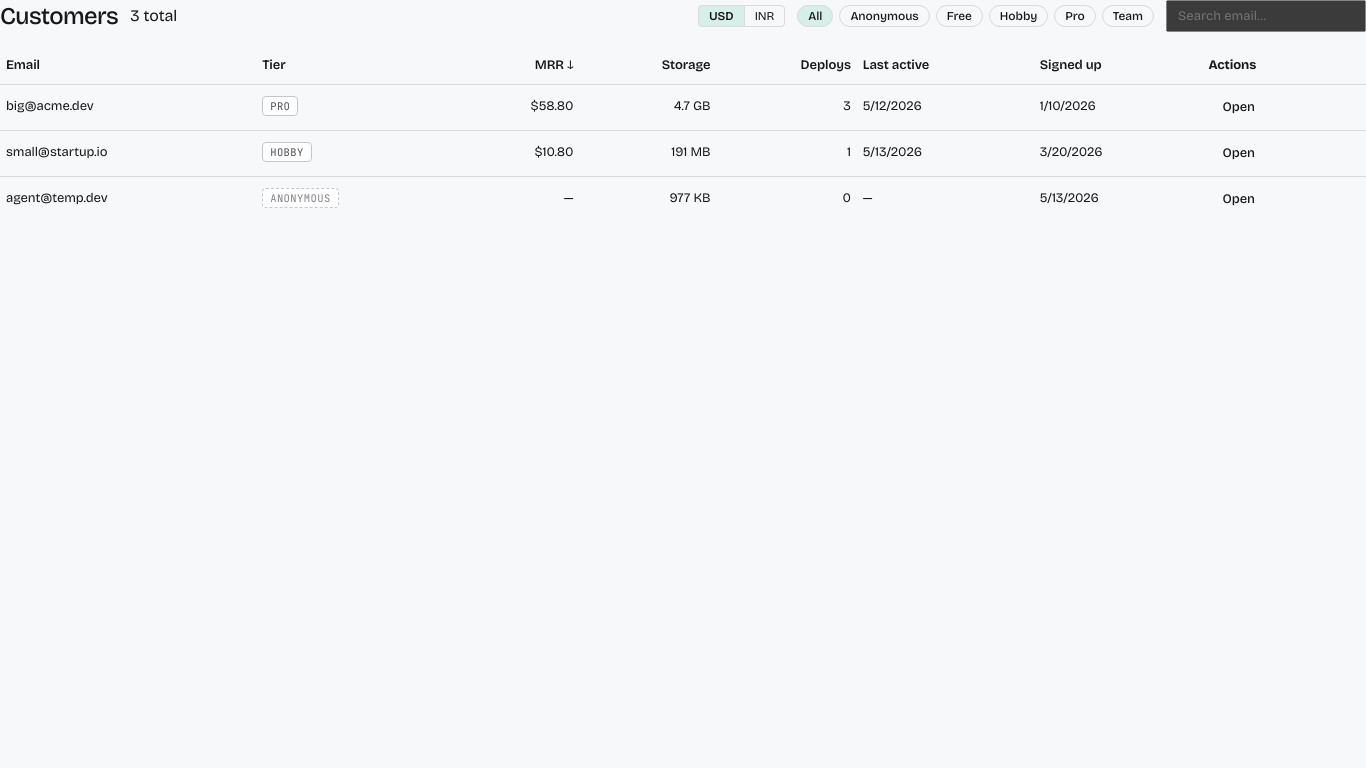
Test: AdminCustomersPage — drawer › drawer tab switches show the right content
Click the row with test id "admin-customer-row-t_big" at (683, 107), box x1=0 y1=84 x2=1365 y2=130
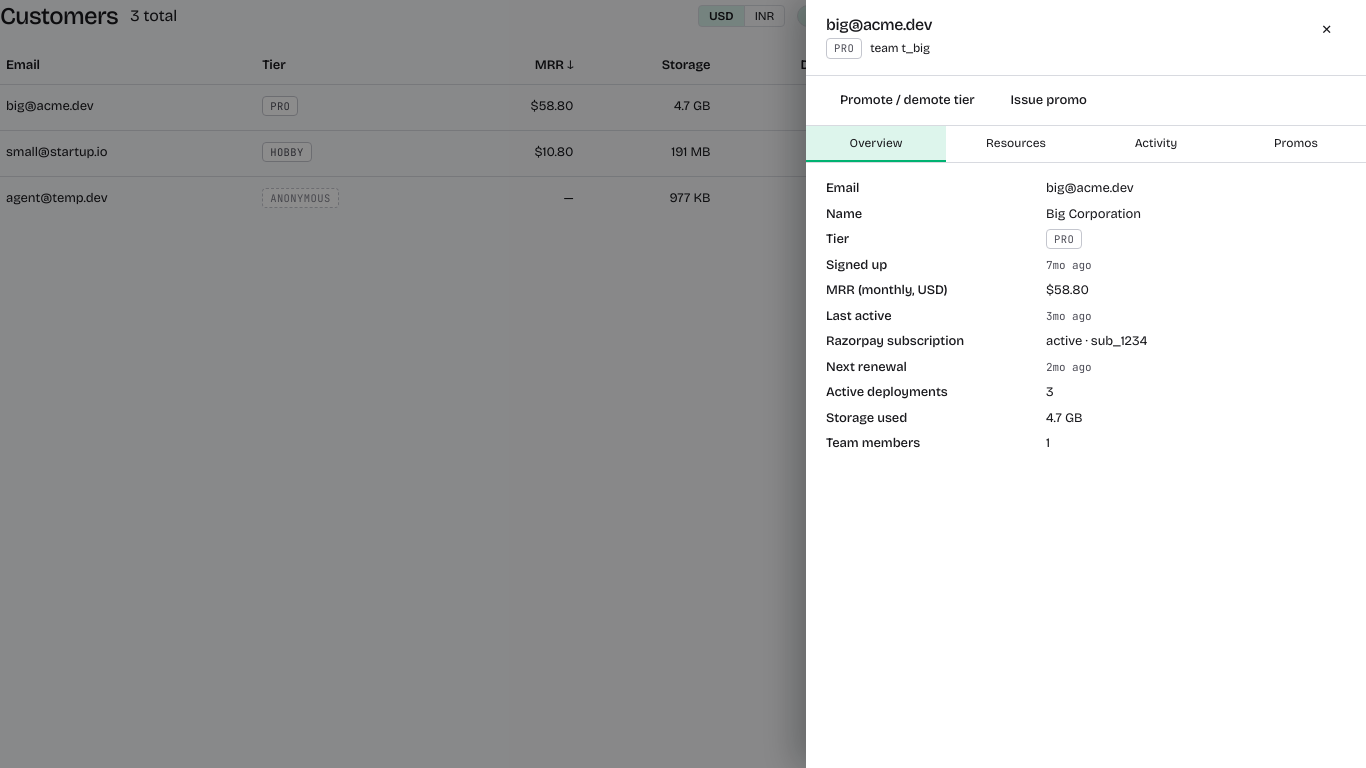
Check: the element with test id "drawer-overview" is shown, box x1=826 y1=179 x2=1346 y2=454
// Switch to Resources tab
Click the tab with test id "drawer-tab-resources" at (1016, 144), box x1=946 y1=126 x2=1086 y2=162
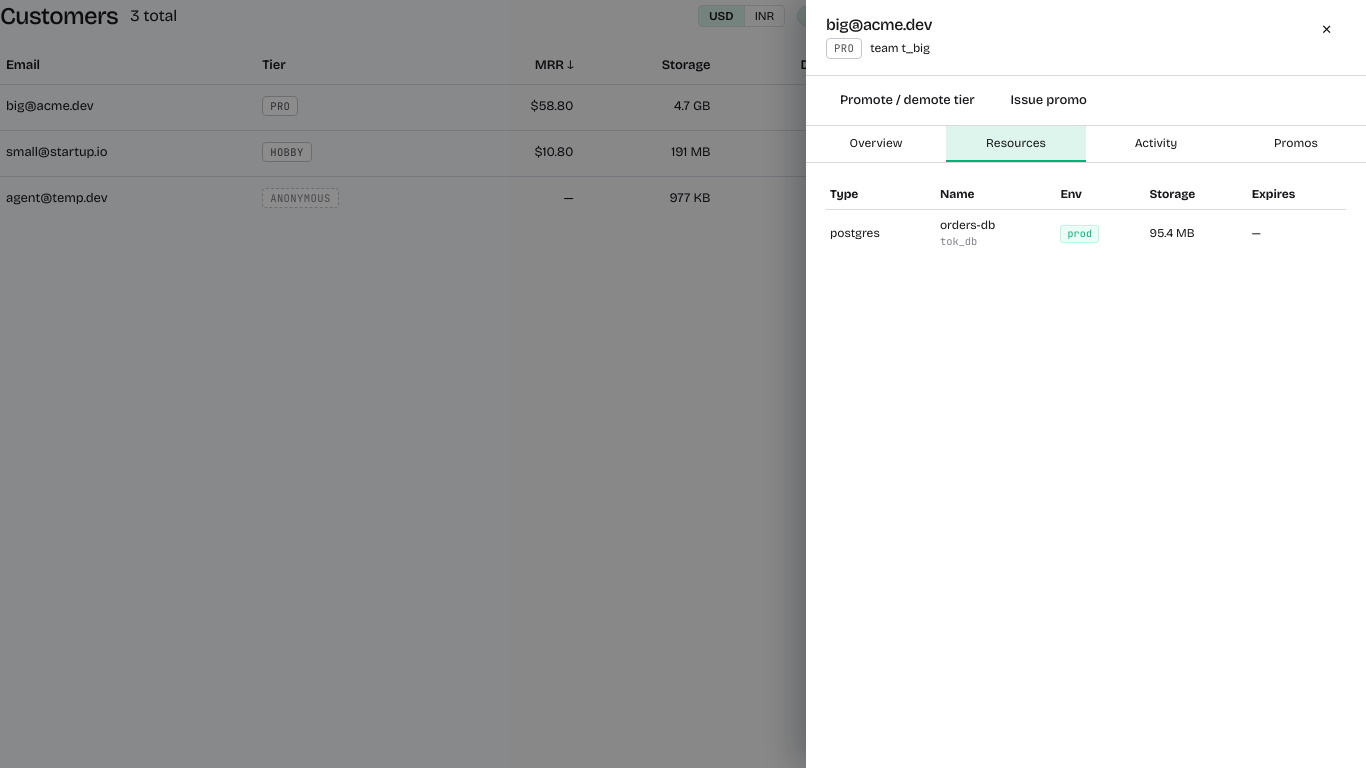
Check: the table with test id "drawer-resources" is shown, box x1=826 y1=179 x2=1346 y2=256
Check: the row with test id "drawer-resource-res_db" is shown, box x1=826 y1=210 x2=1346 y2=256
// Switch to Activity tab
Click the tab with test id "drawer-tab-activity" at (1156, 144), box x1=1086 y1=126 x2=1226 y2=162
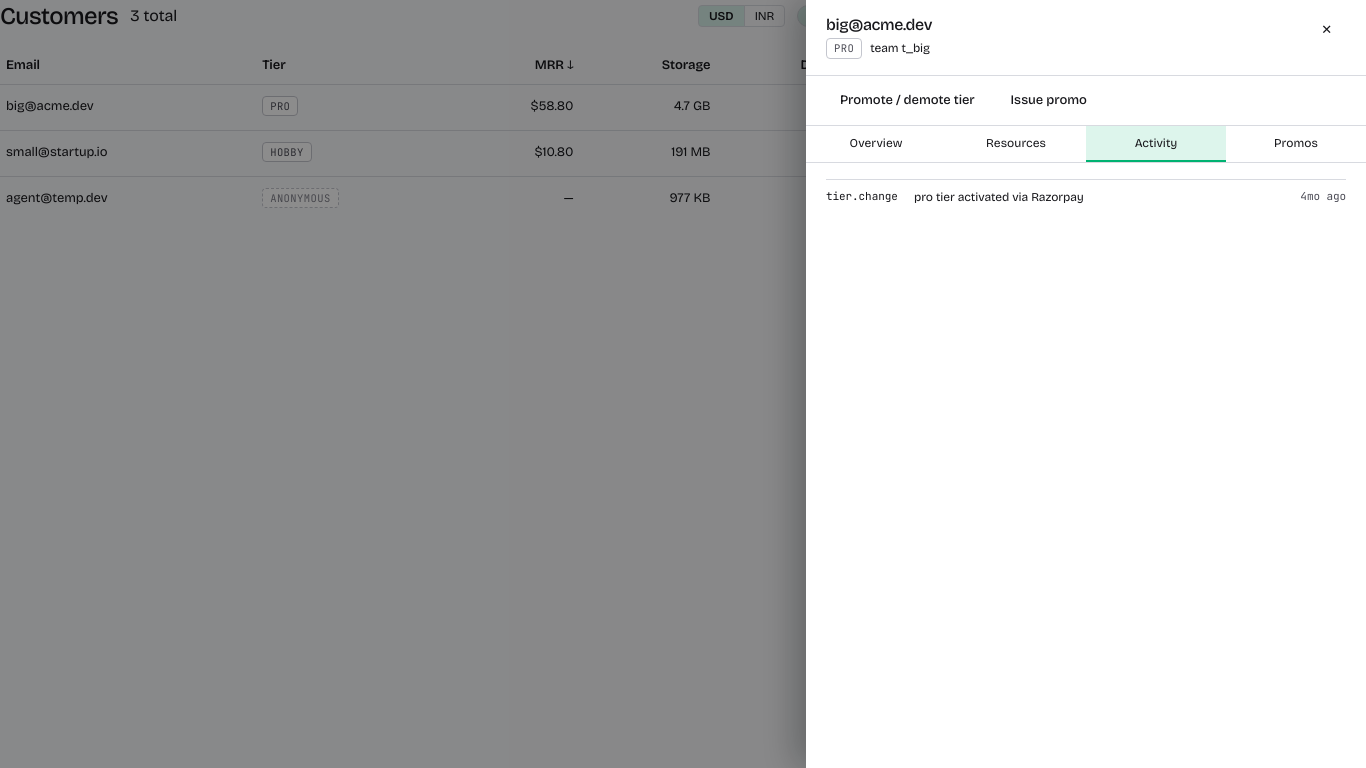
Check: the list with test id "drawer-activity" is shown, box x1=826 y1=179 x2=1346 y2=214
// Switch to Promos tab
Click the tab with test id "drawer-tab-promos" at (1296, 144), box x1=1226 y1=126 x2=1365 y2=162
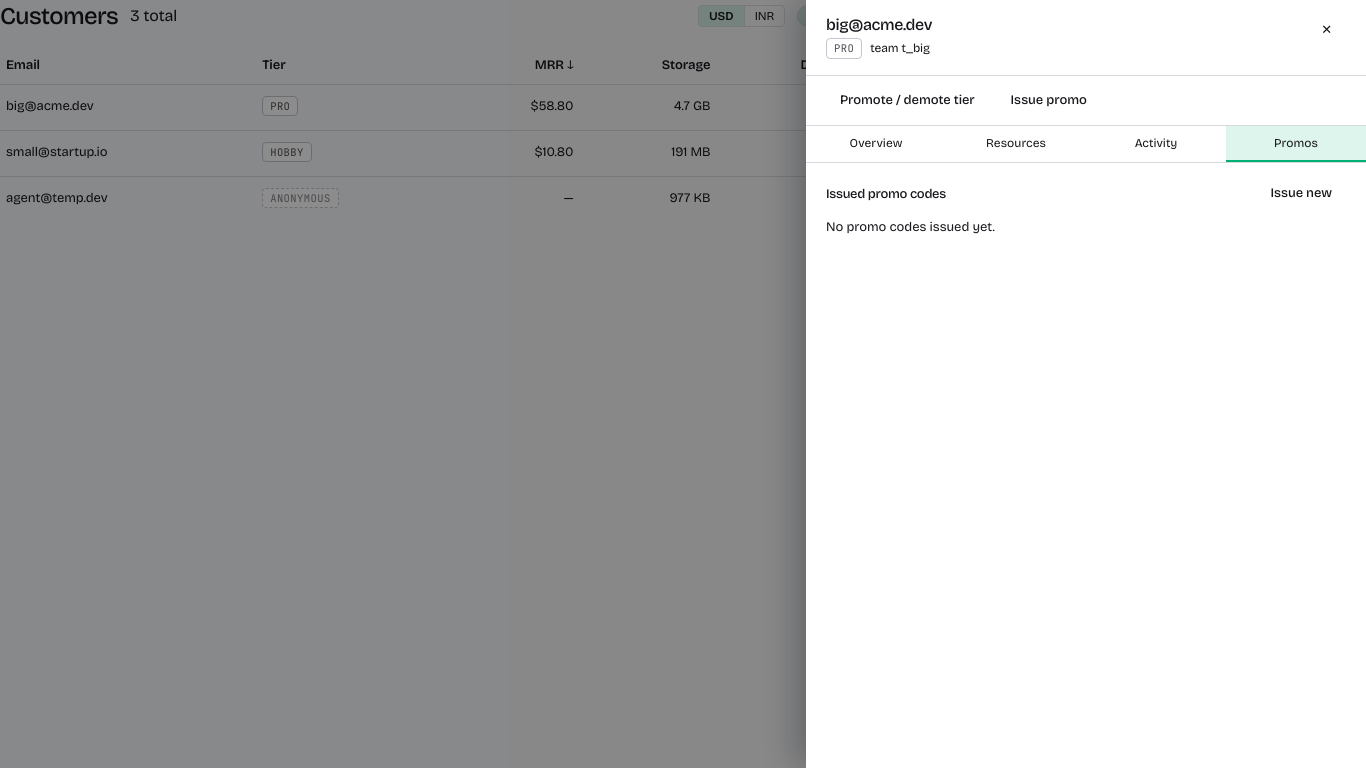
Check: the element with test id "drawer-promos" is shown, box x1=826 y1=179 x2=1346 y2=238
Check: the text "No promo codes issued yet." is shown, box x1=826 y1=219 x2=995 y2=235
